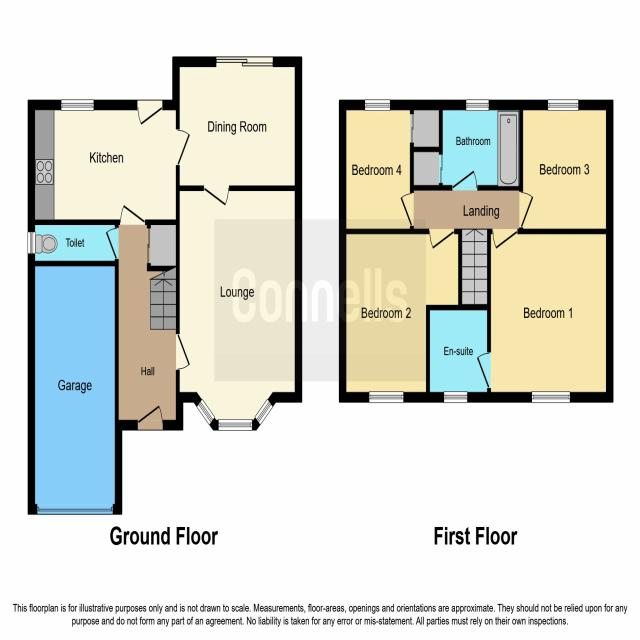DOOR: (137, 404, 164, 431), (137, 99, 163, 126), (203, 185, 231, 208), (175, 128, 191, 166), (175, 333, 191, 371), (119, 204, 145, 226), (492, 228, 518, 250), (452, 169, 478, 191), (519, 191, 534, 229), (476, 352, 491, 389), (429, 228, 454, 250), (104, 227, 119, 260), (400, 192, 414, 226)
ROOM: (175, 184, 303, 431), (476, 228, 614, 403), (338, 228, 463, 403), (27, 99, 191, 225), (171, 56, 303, 208), (518, 99, 614, 235), (339, 99, 414, 235)
WINDOW: (196, 398, 216, 426), (254, 398, 274, 426), (531, 391, 571, 403), (369, 391, 404, 404), (61, 99, 94, 112), (218, 419, 253, 431), (548, 99, 579, 111), (365, 99, 391, 111), (444, 391, 467, 404), (466, 99, 489, 111), (27, 231, 36, 254)
